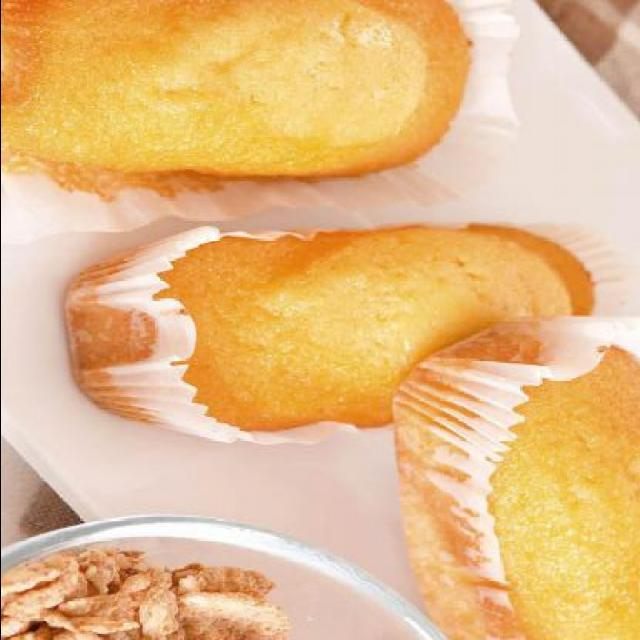Merendine packaged: (52, 219, 606, 441), (1, 1, 494, 201), (390, 307, 639, 639)
